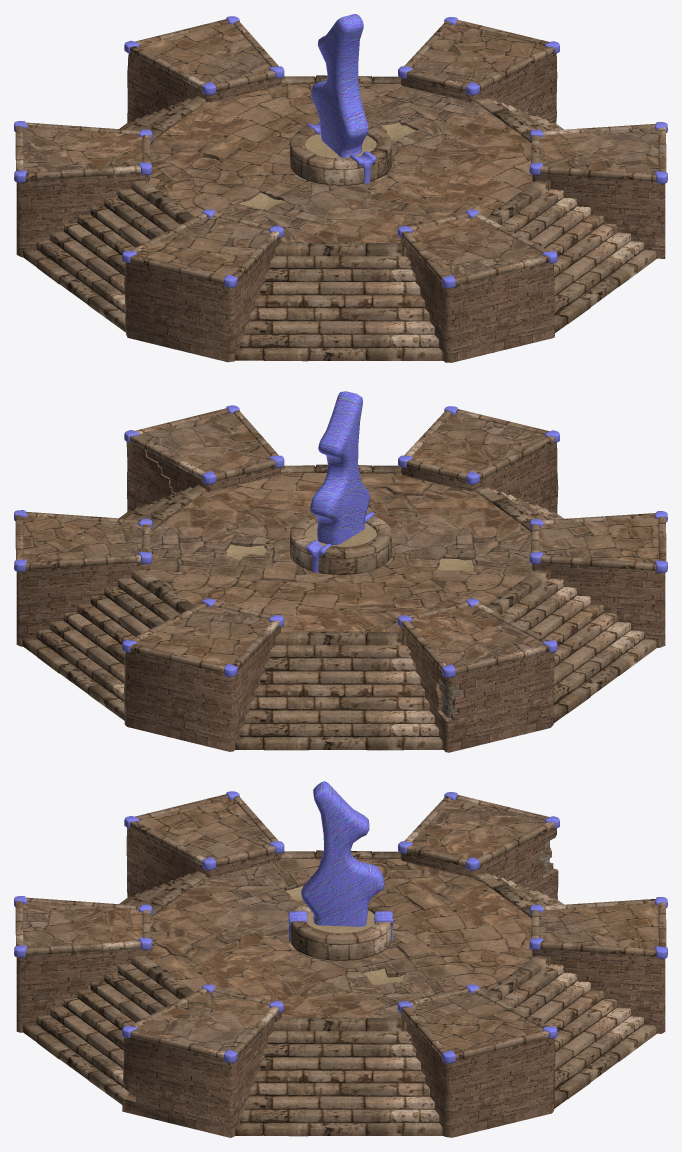
The model's file is SHRINE_01.fbx.
3 views of the same model, one above another, from view 1: azimuth 30°, elevation 25°; view 2: azimuth 150°, elevation 25°; view 3: azimuth 270°, elevation 25° (orthographic).
Parts seen in each view (by area): view 1: SHRINE_01, STATUE; view 2: SHRINE_01, STATUE; view 3: SHRINE_01, STATUE.
Part boxes in pixels (<box>): SHRINE_01: <box>14,16,667,362</box>; STATUE: <box>311,14,368,157</box>; SHRINE_01: <box>14,405,667,752</box>; STATUE: <box>310,391,369,545</box>; SHRINE_01: <box>14,791,667,1137</box>; STATUE: <box>301,781,384,926</box>.
Size of what is drawn, in the model's own units: 1480 by 577 by 1539.
